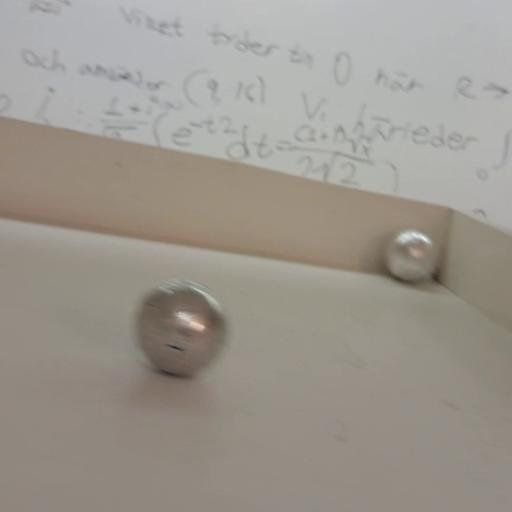alive: (133, 278, 228, 378), (385, 228, 437, 282)
